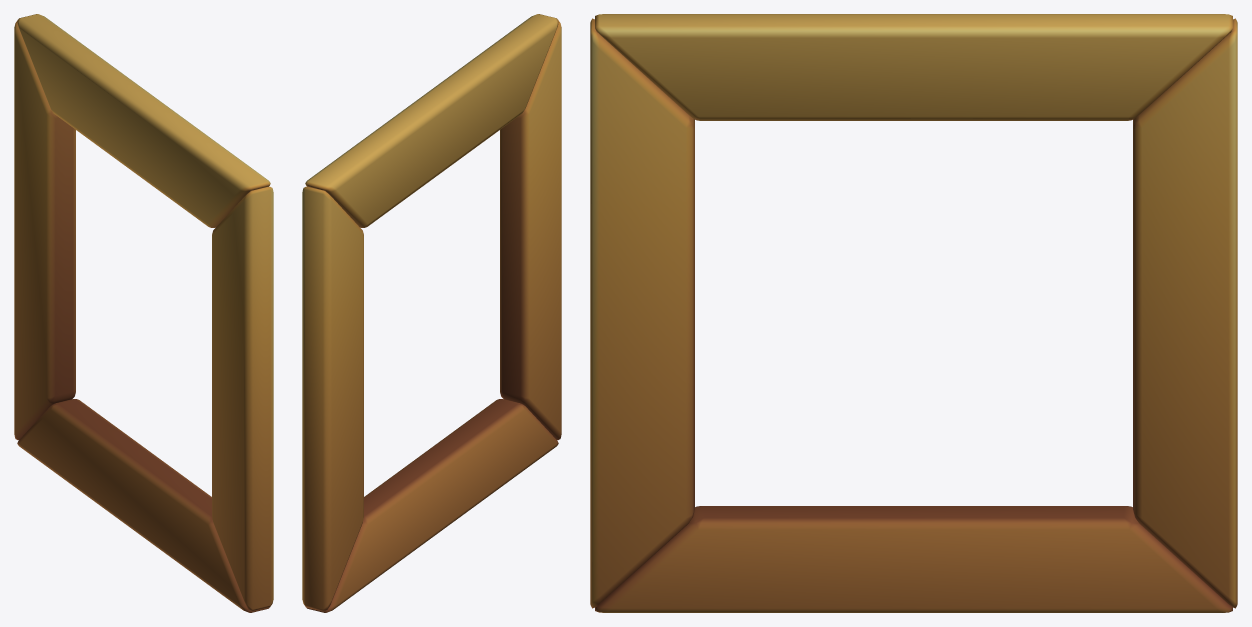
Rendered from PaintingFrame.fbx.
3 views of the same model, side by side, from view 1: azimuth 30°, elevation 25°; view 2: azimuth 150°, elevation 25°; view 3: azimuth 270°, elevation 25° (orthographic). The views are drawn at different scales.
Visible parts, largest first — view 1: PaintingFrame; view 2: PaintingFrame; view 3: PaintingFrame.
Part boxes in pixels (x1,y1,x2,y2): PaintingFrame: (14,14,273,612); PaintingFrame: (302,14,561,612); PaintingFrame: (590,14,1237,612).
Size of the model in its own units: 1.31 by 0.0929 by 1.31.
